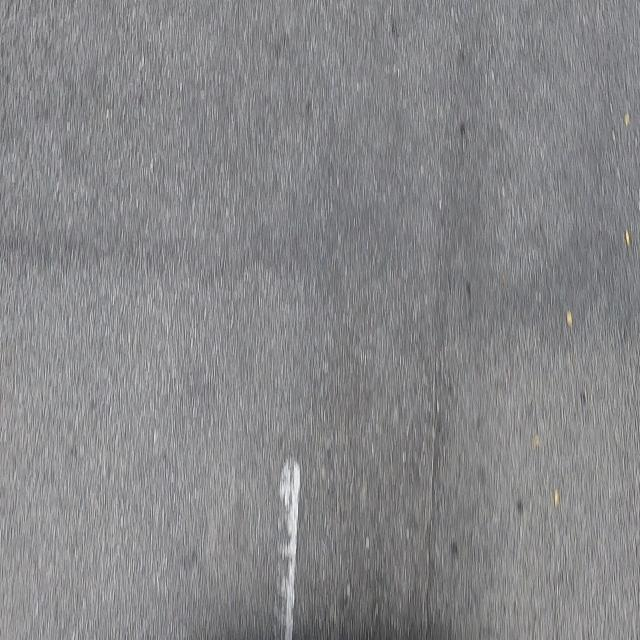Retak-Memanjang: (422, 362, 443, 628)
